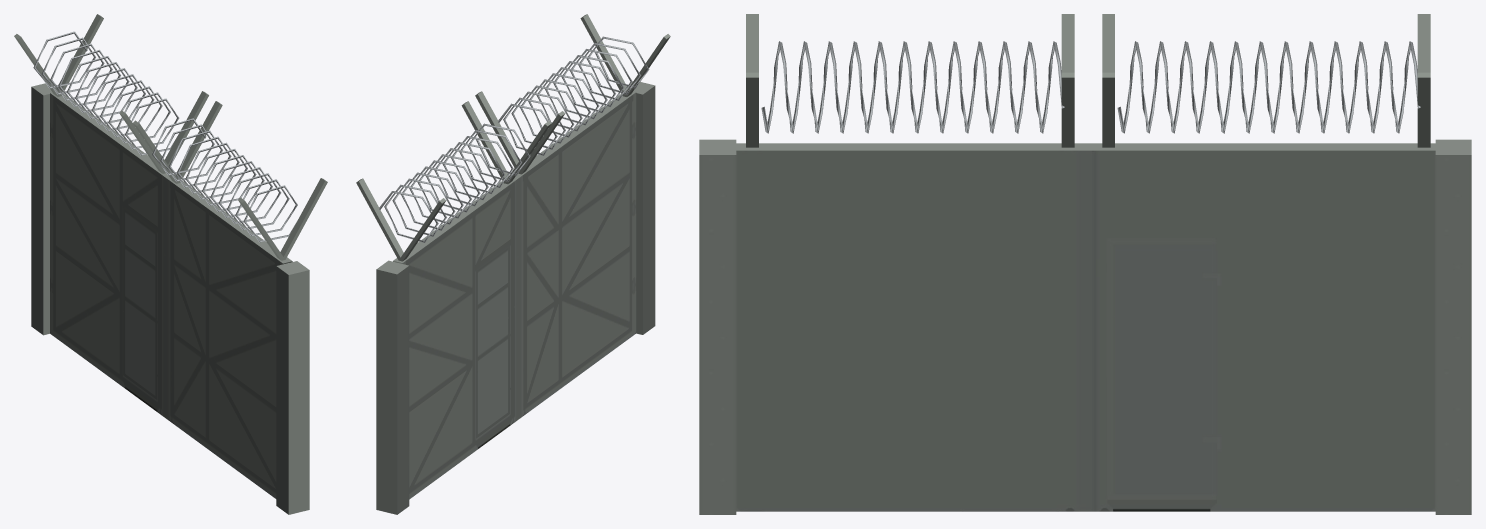
Rendered from gate.glb.
3 renders of one model, left to right at view 1: azimuth 30°, elevation 25°; view 2: azimuth 150°, elevation 25°; view 3: azimuth 270°, elevation 25°, orthographic. The views are drawn at different scales.
Visible parts, largest first — view 1: Gate; view 2: Gate; view 3: Gate.
Part boxes in pixels (x1=…): Gate: x1=14, y1=14, x2=327, y2=514; Gate: x1=356, y1=14, x2=670, y2=514; Gate: x1=699, y1=14, x2=1471, y2=514.
Size of the model in its own units: 1.16 by 3.99 by 6.01.
1 material, 1 textured.
